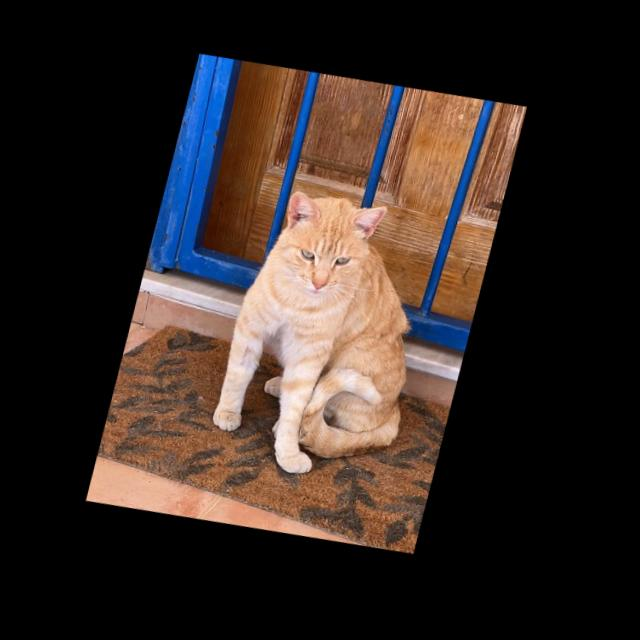animals: (197, 178, 457, 501)
